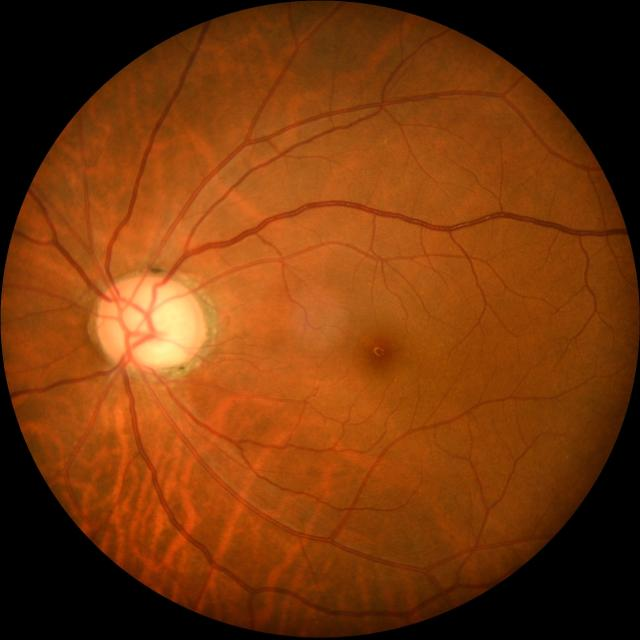OC: (112, 286, 193, 364)
OD: (92, 274, 204, 372)
